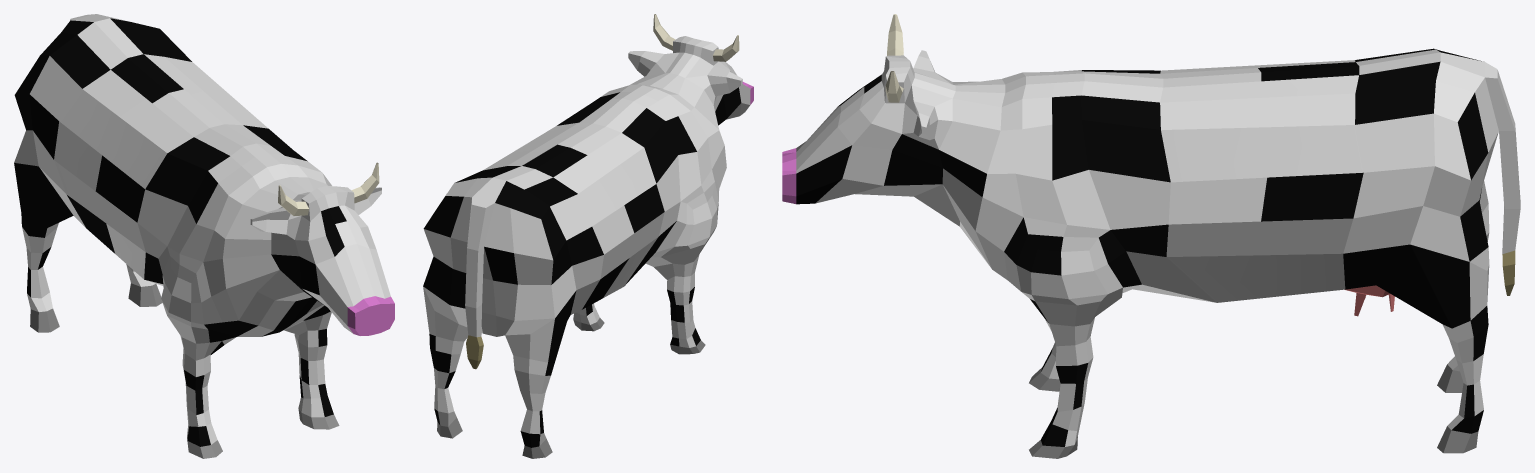
File: UshiChanBottomPivot.fbx
3 renders of one model, left to right at view 1: azimuth 30°, elevation 25°; view 2: azimuth 150°, elevation 25°; view 3: azimuth 270°, elevation 25°, orthographic. The views are drawn at different scales.
Parts seen in each view (by area): view 1: Ushi_Chan; view 2: Ushi_Chan; view 3: Ushi_Chan.
Part boxes in pixels (box(x1,y1,x2,y2)): Ushi_Chan: box(14, 14, 394, 458); Ushi_Chan: box(423, 14, 753, 458); Ushi_Chan: box(782, 14, 1520, 458).
Bounding box in the file's own units: 3.71 × 6.28 × 11.23.
